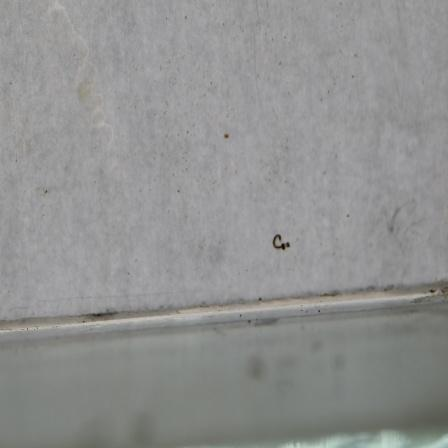Jentik-Nyamuk: (269, 227, 295, 257)
